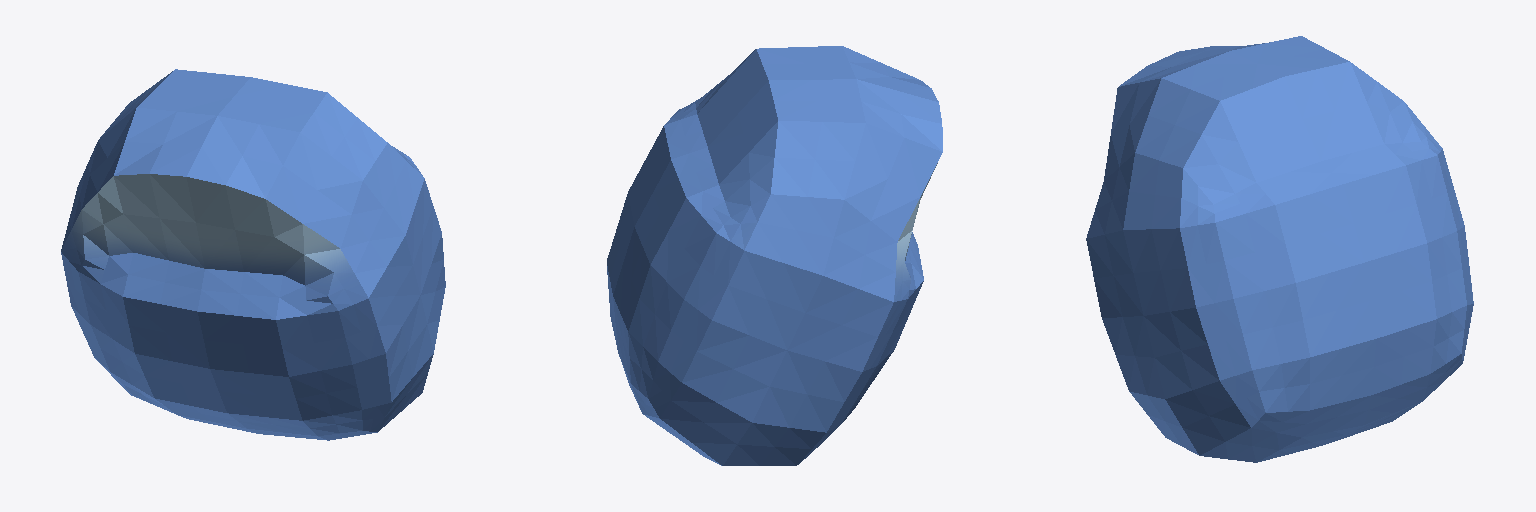
3 renders of one model, left to right at view 1: azimuth 30°, elevation 25°; view 2: azimuth 150°, elevation 25°; view 3: azimuth 270°, elevation 25°, orthographic.
Parts seen in each view (by area): view 1: 立方体; view 2: 立方体; view 3: 立方体.
Boxes of the visible parts, x1=… form: 立方体: x1=61, y1=69, x2=445, y2=440; 立方体: x1=607, y1=46, x2=942, y2=465; 立方体: x1=1086, y1=36, x2=1473, y2=462.
Size of the model in its own units: 2.1 by 2.22 by 2.19.
Materials: 1 (1 with a texture image).